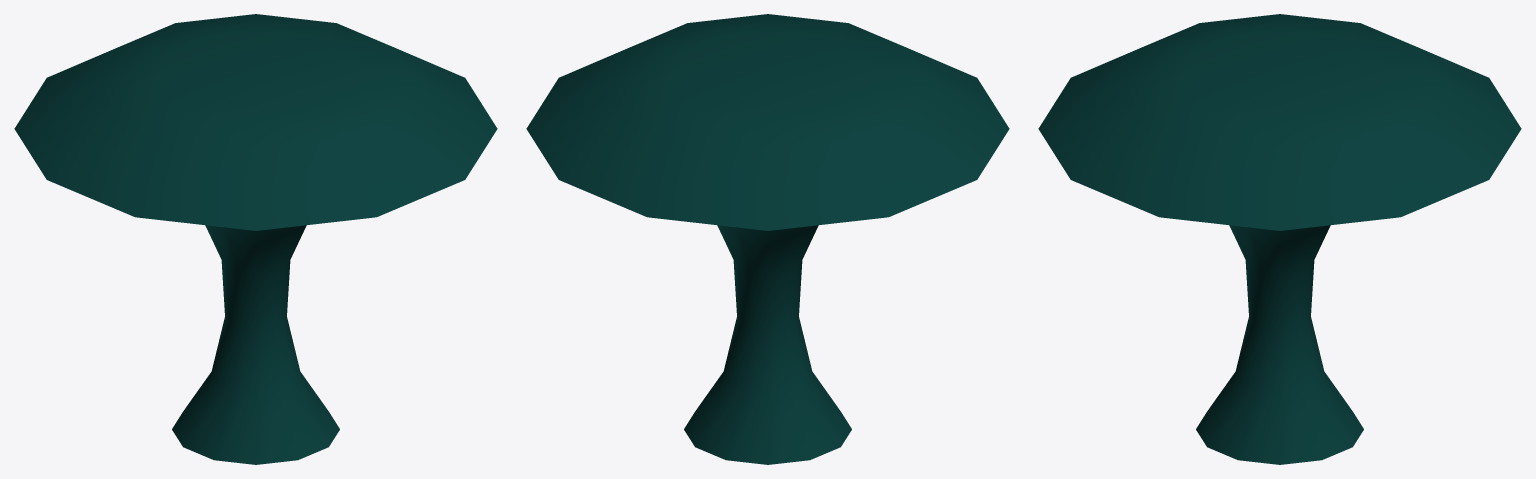
File: alientree.FBX
3 views of the same model, side by side, from view 1: azimuth 30°, elevation 25°; view 2: azimuth 150°, elevation 25°; view 3: azimuth 270°, elevation 25° (orthographic).
Parts seen in each view (by area): view 1: Cylinder001; view 2: Cylinder001; view 3: Cylinder001.
Part boxes in pixels (box(x1,y1,x2,y2)): Cylinder001: box(14, 14, 497, 464); Cylinder001: box(526, 14, 1009, 464); Cylinder001: box(1038, 14, 1521, 464).
Size of the model in its own units: 199 by 163 by 199.
